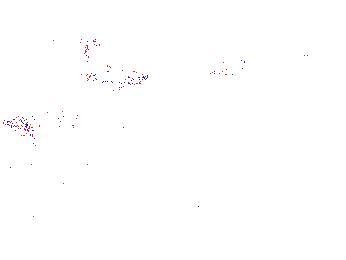glassfish: (6, 110, 80, 131)
red belly glassfish: (255, 66, 284, 81), (292, 48, 309, 61)
redtail glassfish: (78, 69, 148, 87), (208, 56, 250, 81), (83, 33, 103, 59)
